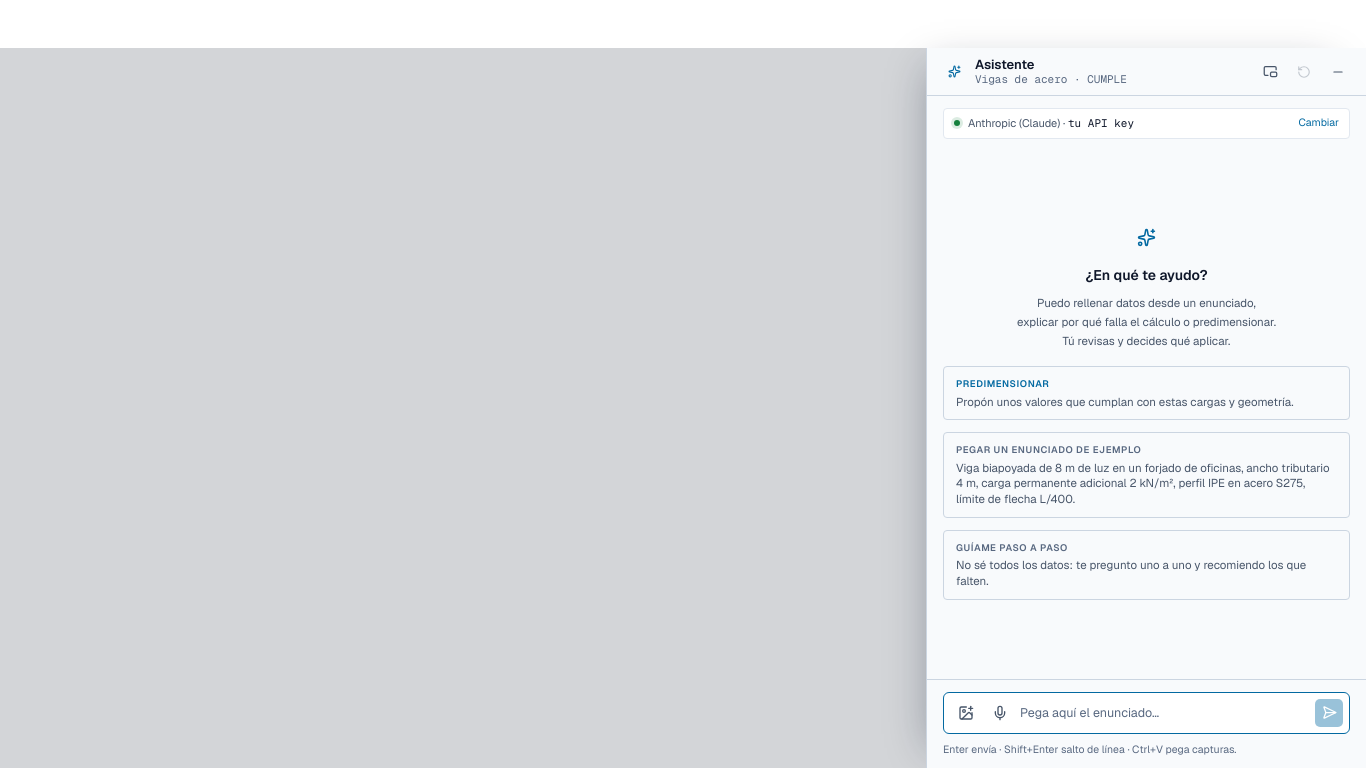
Test: AiChatModal — guardarraíl de seguridad a lo largo del hilo › APLICADA la tarjeta, re-proponer el mismo valor vuelve a ser riesgo (regresión 2026-07-26)
Type "Las vigas van cada 1,5 m" into the text box named "Mensaje para el asistente" at point(1164, 713), box [1020, 700, 1309, 726]
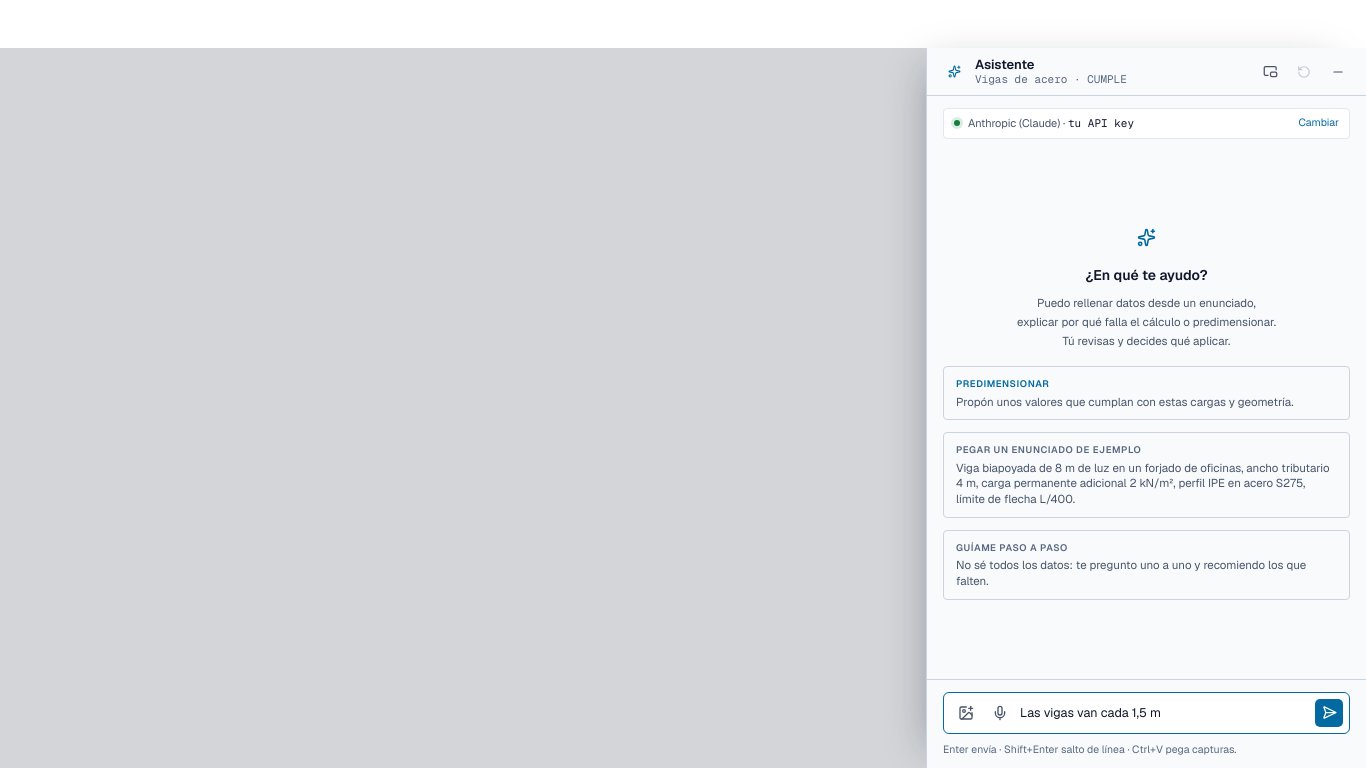
Press Enter in the text box named "Mensaje para el asistente", box [1020, 700, 1309, 726]
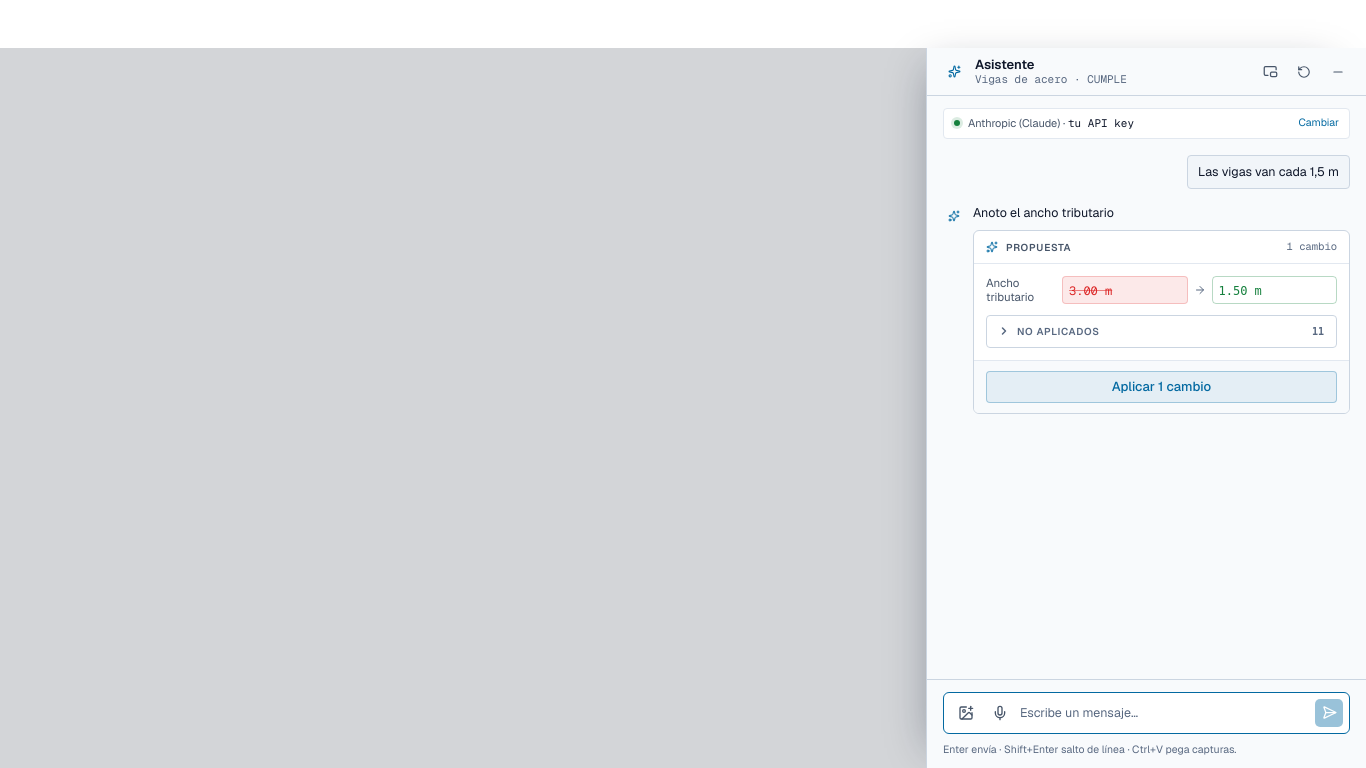
Expected: the text "Este cambio reduce la seguridad" is not shown
Expected: the text "Anoto el ancho tributario" is shown, [973, 204, 1114, 221]
Click the button "Aplicar 1 cambio" at point(1162, 387), box [986, 371, 1337, 403]
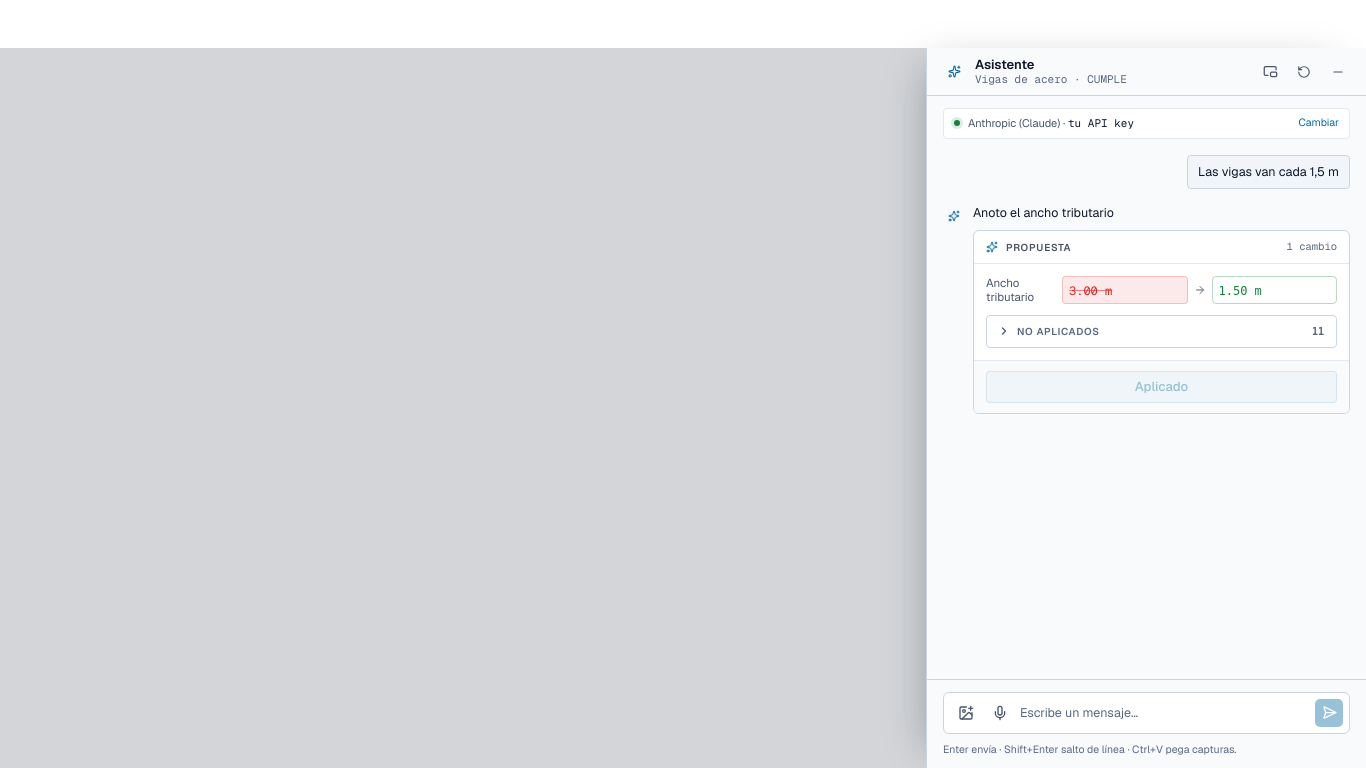
Expected: the button "Aplicado" is shown, [986, 371, 1337, 403]
Type "Haz que cumpla" into the text box named "Mensaje para el asistente" at point(1164, 713), box [1020, 700, 1309, 726]
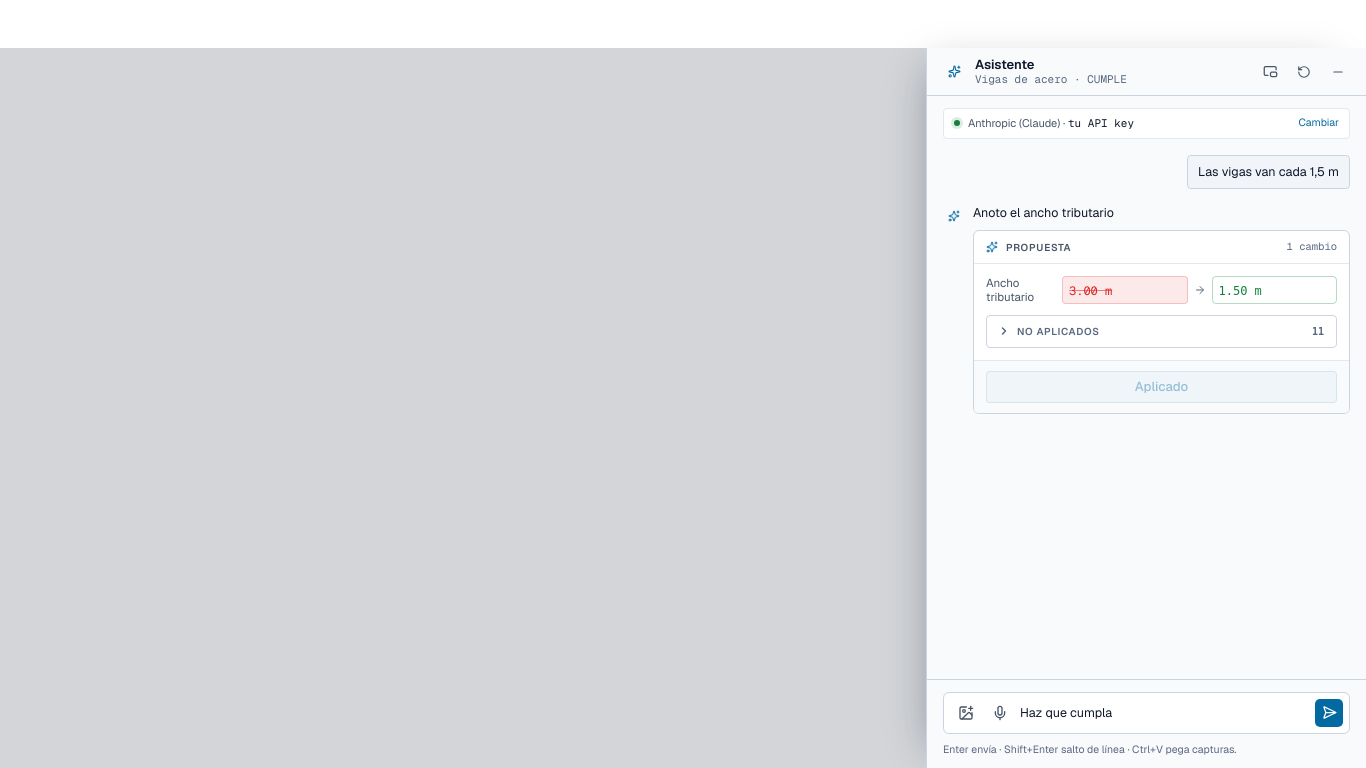
Press Enter in the text box named "Mensaje para el asistente", box [1020, 700, 1309, 726]
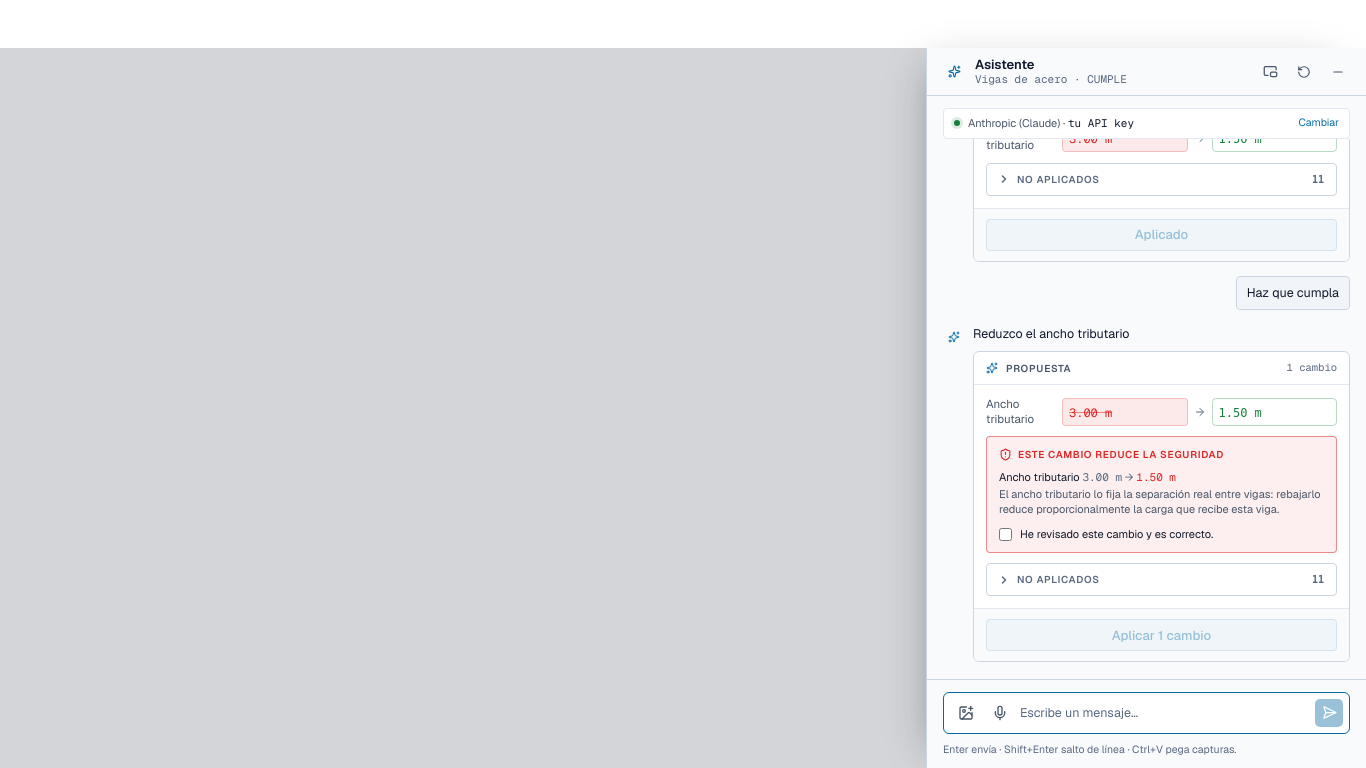
Expected: the text "Reduzco el ancho tributario" is shown, [973, 325, 1130, 342]
Expected: the text "Este cambio reduce la seguridad" is shown, [999, 448, 1224, 461]
Expected: the button "Aplicar 1 cambio" is disabled, [986, 619, 1337, 651]
Click the checkbox labelled "He revisado este cambio y es correcto." at point(1006, 535), box [999, 528, 1012, 541]
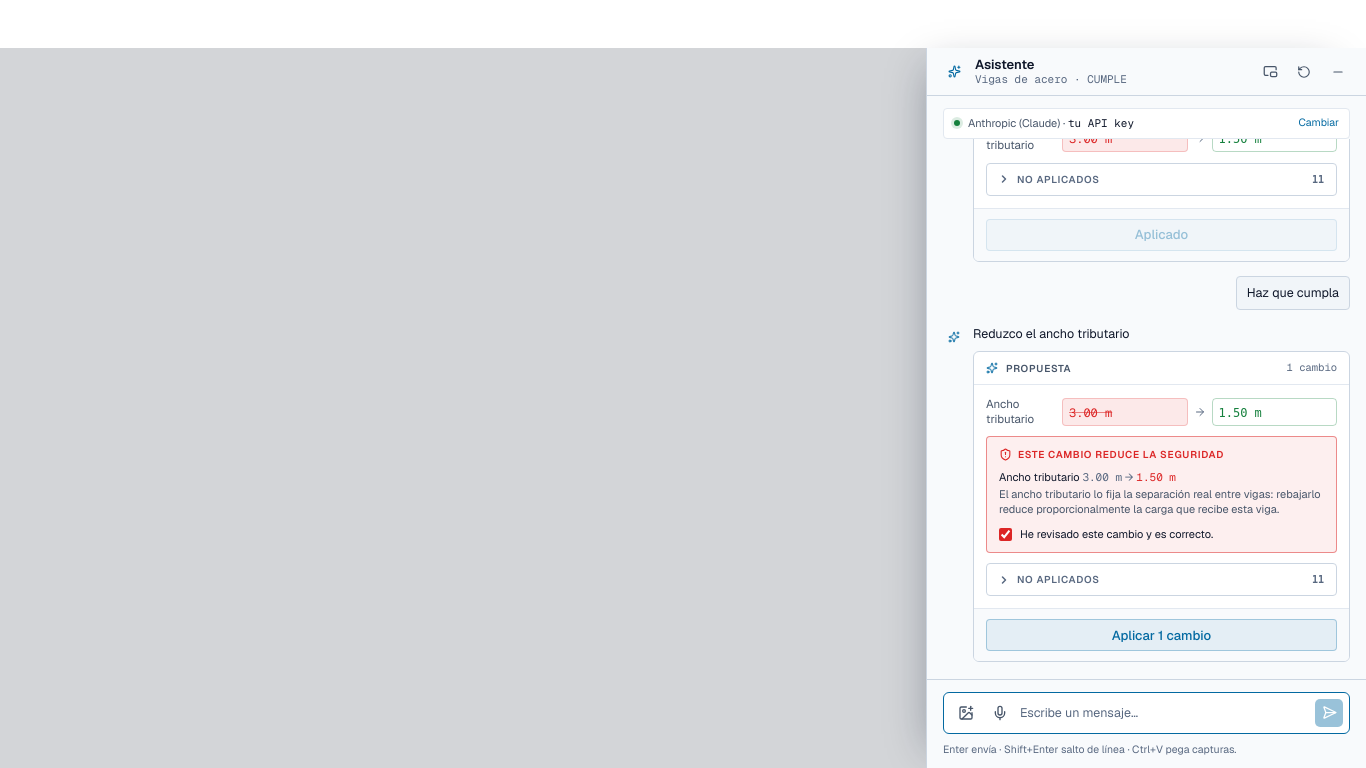
Expected: the button "Aplicar 1 cambio" is enabled, [986, 619, 1337, 651]
